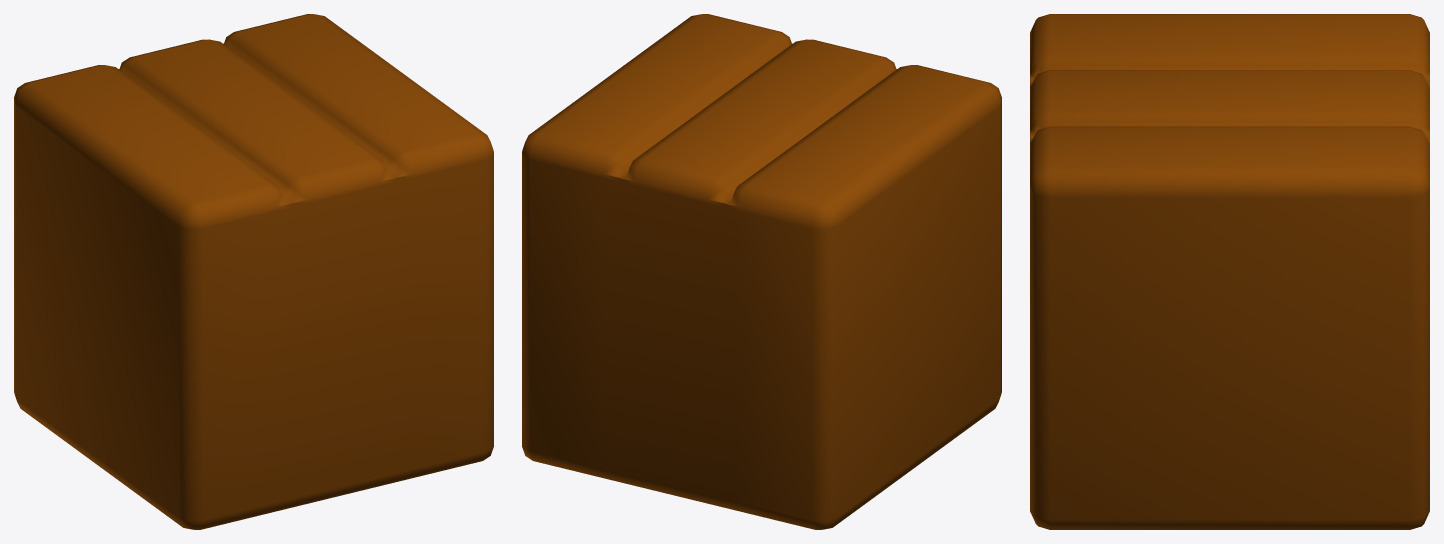
Rendered from 3D_Tile_Farm_Field_01.glb.
3 renders of one model, left to right at view 1: azimuth 30°, elevation 25°; view 2: azimuth 150°, elevation 25°; view 3: azimuth 270°, elevation 25°, orthographic. The views are drawn at different scales.
Parts seen in each view (by area): view 1: 3D_Tile_Farm_Field_01; view 2: 3D_Tile_Farm_Field_01; view 3: 3D_Tile_Farm_Field_01.
Part boxes in pixels (<box>): 3D_Tile_Farm_Field_01: <box>14,14,493,529</box>; 3D_Tile_Farm_Field_01: <box>522,14,1001,529</box>; 3D_Tile_Farm_Field_01: <box>1030,14,1429,529</box>.
Bounding box in the file's own units: 2 × 2 × 2.
Materials: 1 (1 with a texture image).
